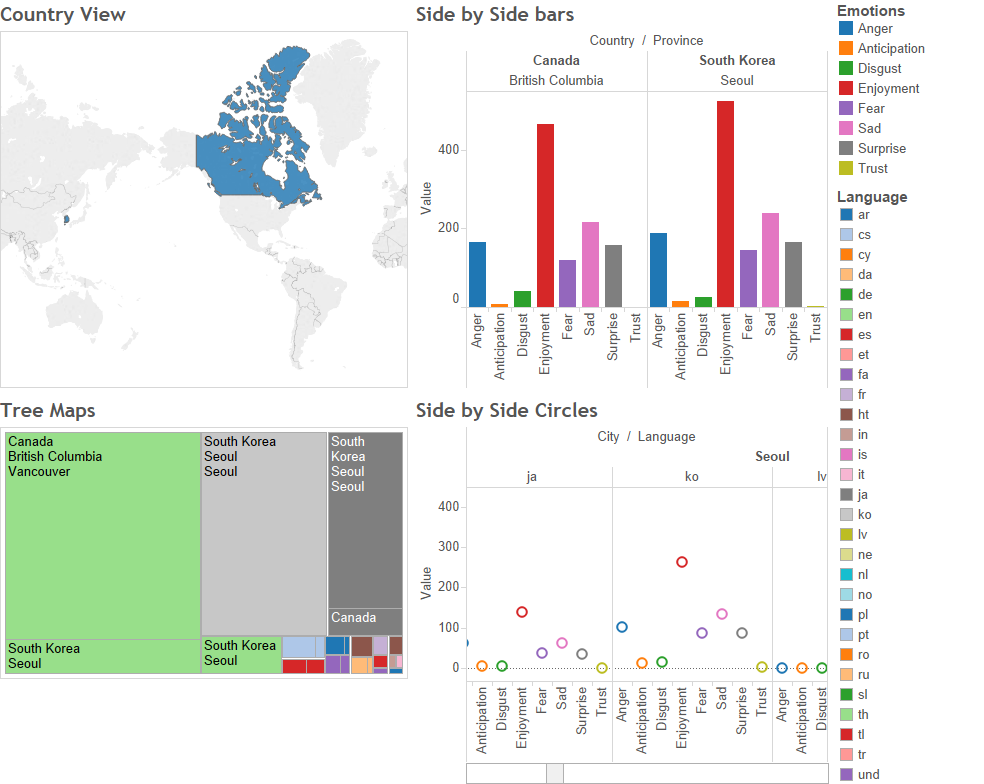

What the dashboard file says about the page in this screenshot:
{"tool":"tableau","page":{"name":"Dashboard 1","canvas":[1000,800],"ordinal":0},"visuals":[{"type":"worksheet","title":"Sheet 1","mark":"Multipolygon","box":[0,0,420,400]},{"type":"worksheet","title":"Sheet 2","mark":"Automatic","cols":["COUNTRY","PROVINCE"],"box":[420,0,420,400]},{"type":"legend","title":"Sheet 2","param":"[textscan.1u8rf051q2y505160gfkj1mgbfis].[:Measure Names]","box":[840,0,160,190]},{"type":"legend","title":"Sheet 3","param":"[textscan.1u8rf051q2y505160gfkj1mgbfis].[none:LANGUAGE:nk]","box":[840,190,160,610]},{"type":"worksheet","title":"Sheet 3","mark":"Automatic","box":[0,400,420,400]},{"type":"worksheet","title":"Sheet 4 (2)","mark":"Shape","cols":["CITY","LANGUAGE"],"box":[420,400,420,400]}]}

Visuals, with their boxes in screenshot pixels (x1, y1, x2, y2), scaled from the page's 1000x800 canvas onto the 984x784 screenshot:
"Sheet 1" worksheet (Multipolygon marks): {"left": 0, "top": 0, "right": 413, "bottom": 392}
"Sheet 2" worksheet: {"left": 413, "top": 0, "right": 827, "bottom": 392}
"Sheet 2" legend: {"left": 827, "top": 0, "right": 983, "bottom": 186}
"Sheet 3" legend: {"left": 827, "top": 186, "right": 983, "bottom": 783}
"Sheet 3" worksheet: {"left": 0, "top": 392, "right": 413, "bottom": 783}
"Sheet 4 (2)" worksheet (Shape marks): {"left": 413, "top": 392, "right": 827, "bottom": 783}
